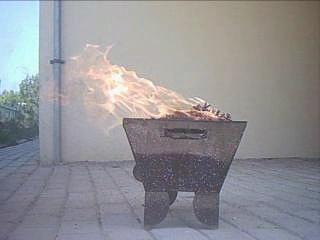fire: (54, 41, 201, 129)
